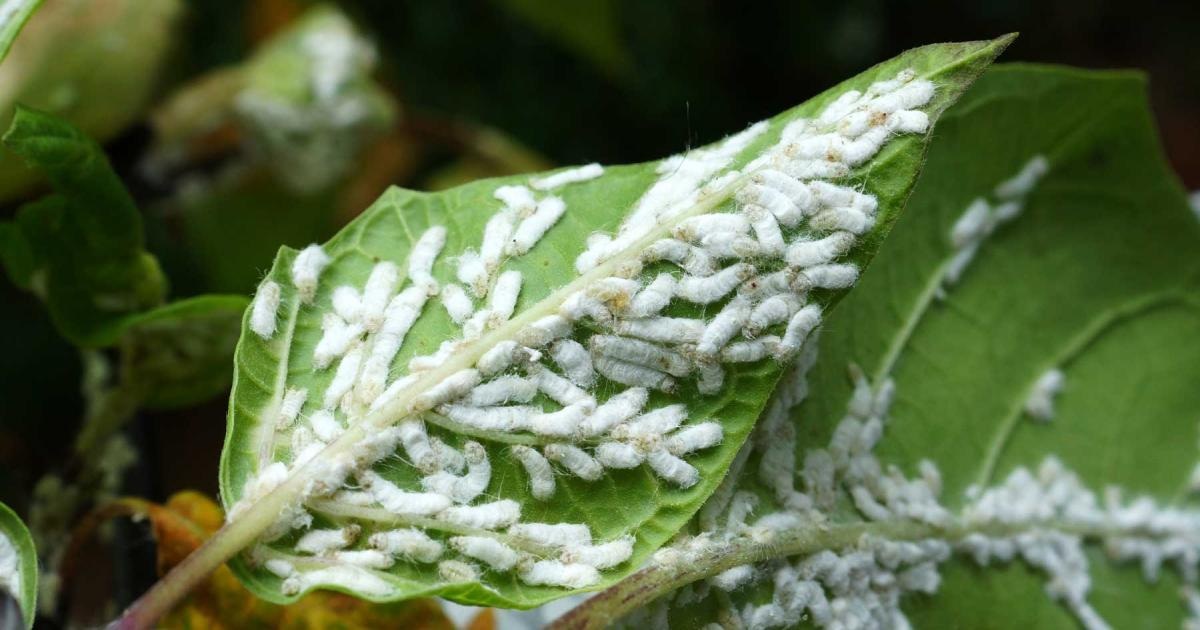pseudococcidae: (220, 50, 988, 603)
